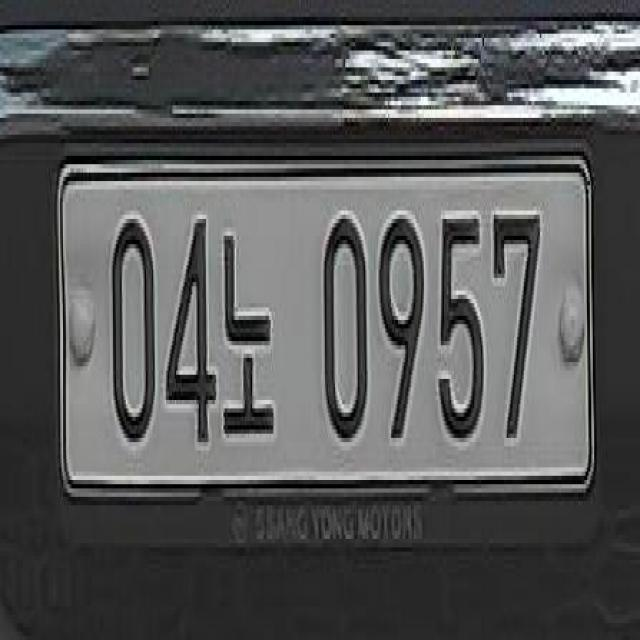illegal_plate: (54, 130, 604, 535)
